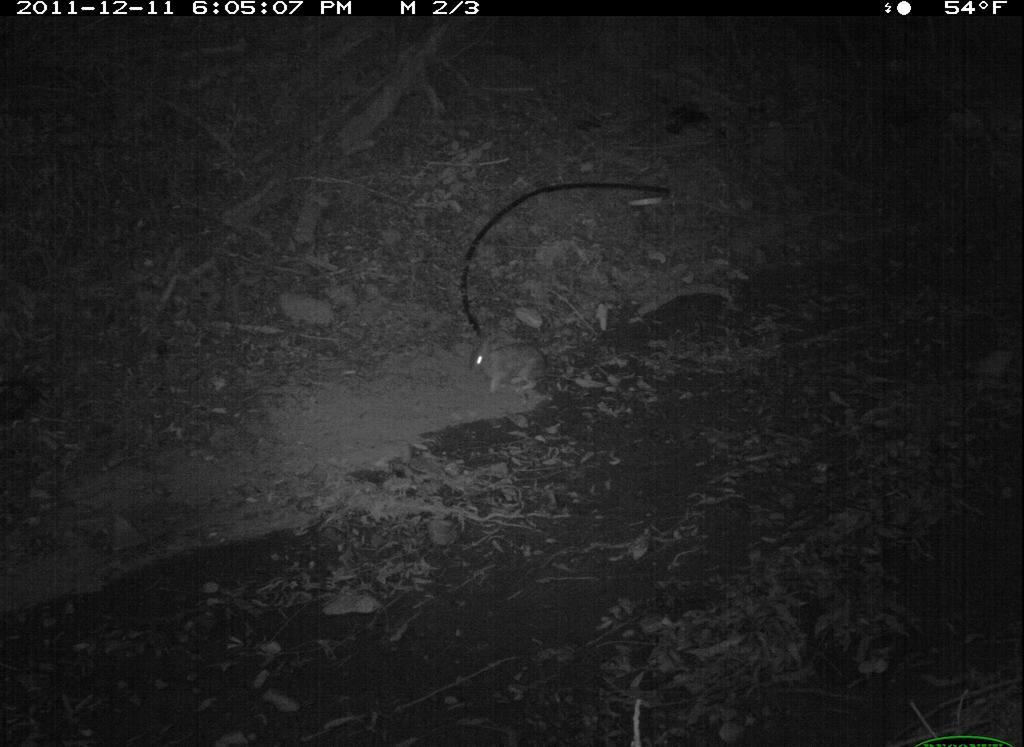rabbit: (457, 329, 577, 420)
